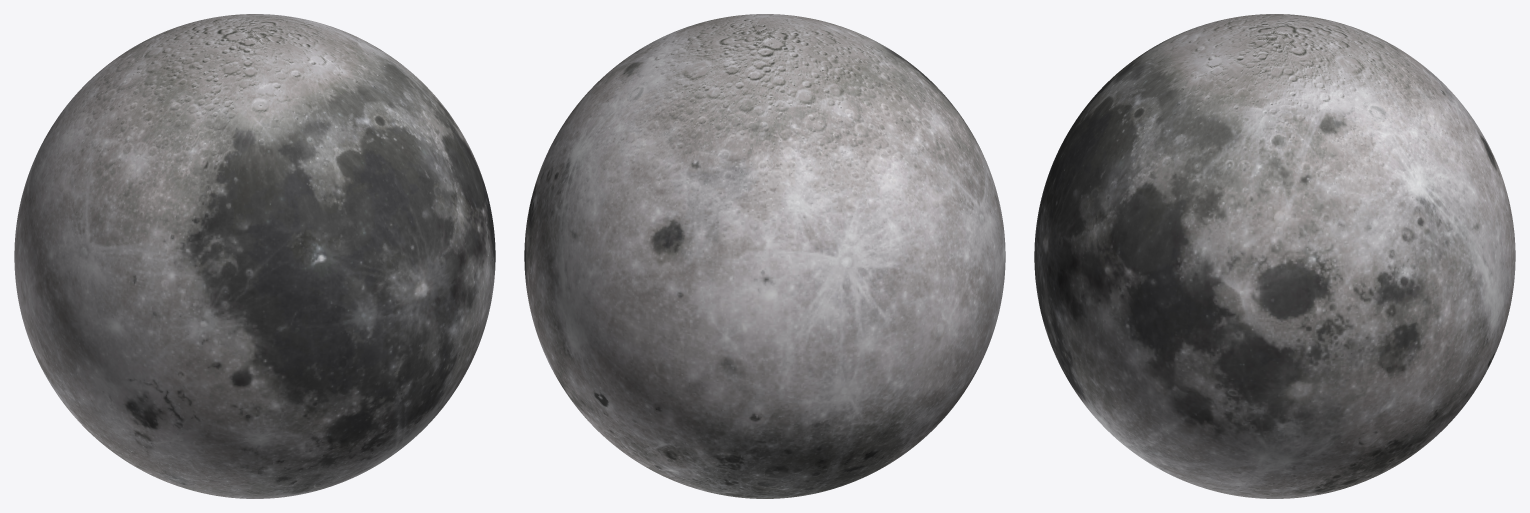
The model's file is Moon.fbx.
The picture shows the model from 3 angles, left to right: view 1: azimuth 30°, elevation 25°; view 2: azimuth 150°, elevation 25°; view 3: azimuth 270°, elevation 25°; orthographic projection.
Visible parts, largest first — view 1: Esfera; view 2: Esfera; view 3: Esfera.
Part boxes in pixels (<box>): Esfera: <box>14,14,495,498</box>; Esfera: <box>524,14,1005,498</box>; Esfera: <box>1034,14,1515,498</box>.
Bounding box in the file's own units: 196 × 199 × 196.
1 material, 1 textured.
